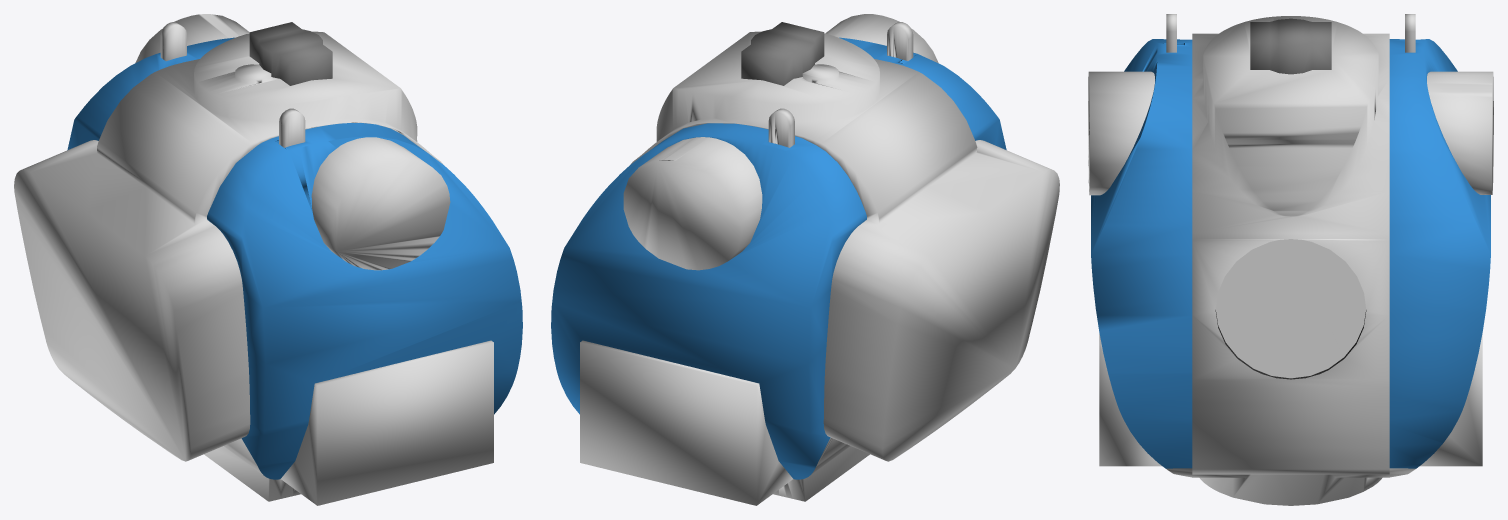
File: CHEST_Y.dae
The picture shows the model from 3 angles, left to right: view 1: azimuth 30°, elevation 25°; view 2: azimuth 150°, elevation 25°; view 3: azimuth 270°, elevation 25°; orthographic projection.
Parts seen in each view (by area): view 1: ShapeIndexedFaceS_009, ShapeIndexedFaceS_012, ShapeIndexedFaceS_014, ShapeIndexedFaceS_010, ShapeIndexedFaceS_015; view 2: ShapeIndexedFaceS_009, ShapeIndexedFaceS_010, ShapeIndexedFaceS_014, ShapeIndexedFaceS_015, ShapeIndexedFaceS_012; view 3: ShapeIndexedFaceS_009, ShapeIndexedFaceS_010, ShapeIndexedFaceS_012, ShapeIndexedFaceS_014, ShapeIndexedFaceS_015.
Boxes of the visible parts, x1,y1,x2,y2 form: ShapeIndexedFaceS_009: (14,22,493,505); ShapeIndexedFaceS_012: (207,123,521,465); ShapeIndexedFaceS_014: (135,14,450,270); ShapeIndexedFaceS_010: (67,37,522,479); ShapeIndexedFaceS_015: (249,22,332,85); ShapeIndexedFaceS_009: (580,22,1059,505); ShapeIndexedFaceS_010: (551,123,866,479); ShapeIndexedFaceS_014: (623,14,938,270); ShapeIndexedFaceS_015: (741,22,824,85); ShapeIndexedFaceS_012: (839,37,1006,149); ShapeIndexedFaceS_009: (1099,14,1482,505); ShapeIndexedFaceS_010: (1125,39,1490,468); ShapeIndexedFaceS_012: (1091,39,1192,468); ShapeIndexedFaceS_014: (1088,71,1493,195); ShapeIndexedFaceS_015: (1250,18,1331,74).
Size of the model in its own units: 0.273 by 0.2635 by 0.293.
